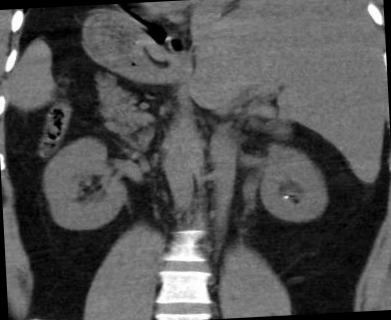Tas_Var: (282, 193, 292, 202)
